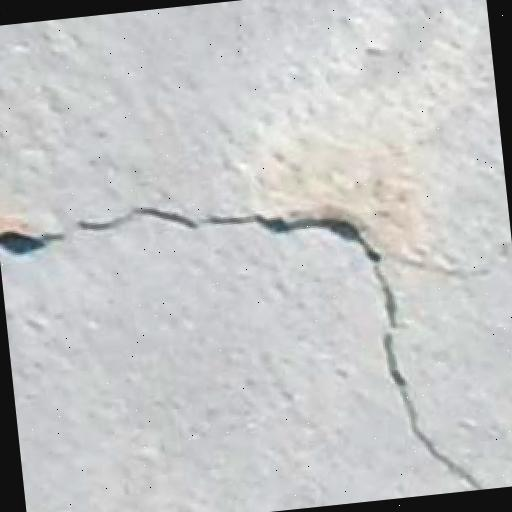spalling: (5, 186, 509, 489)
